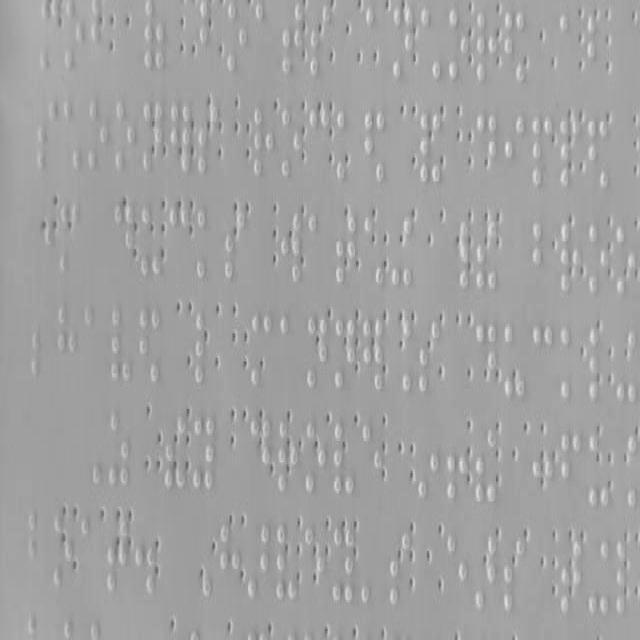braiile: (56, 301, 78, 383), (82, 301, 104, 383), (110, 304, 132, 386), (27, 509, 51, 584), (196, 208, 220, 282), (193, 411, 215, 491), (219, 522, 241, 602), (332, 524, 354, 604), (361, 421, 383, 499), (446, 532, 468, 610), (87, 100, 109, 176), (114, 100, 136, 176), (532, 324, 554, 400), (560, 431, 582, 507), (226, 1, 248, 75), (254, 1, 276, 75), (503, 116, 525, 190), (279, 314, 301, 388), (36, 99, 58, 172), (559, 328, 581, 401), (280, 106, 302, 178), (80, 514, 102, 584), (252, 108, 274, 176), (448, 8, 468, 82), (532, 114, 552, 188), (588, 223, 608, 297), (307, 213, 329, 280), (282, 5, 302, 76), (392, 7, 412, 78), (476, 11, 496, 82), (532, 220, 552, 291), (558, 12, 578, 81), (586, 15, 606, 84), (310, 110, 328, 179)
